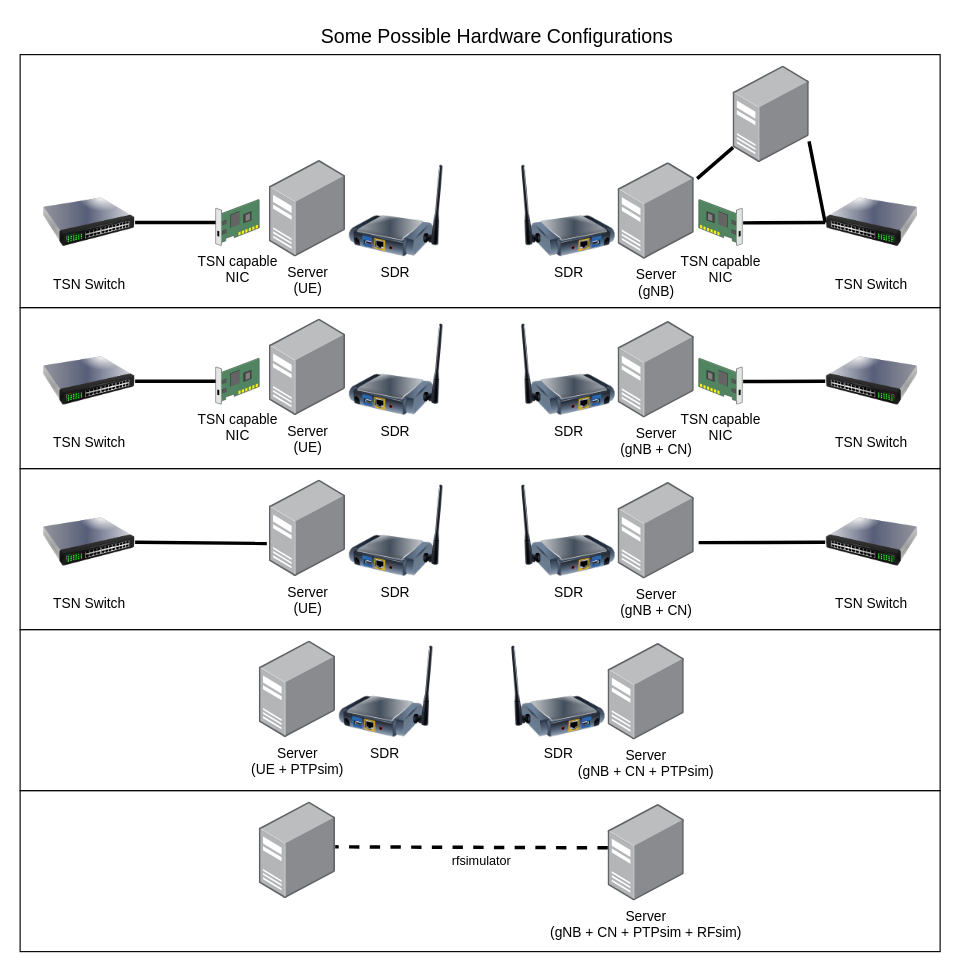
The diagram is 960 pixels wide and 972 high, and some of its shapes have lost their labels. The shapes that lost their labels are listed below. From the top down, each one's box as (x1, y1, x2, y2) in pixels, then its label:
(733, 66, 809, 162): Server (CN)
(259, 802, 335, 898): Server (UE + PTPsim + RFsim)
